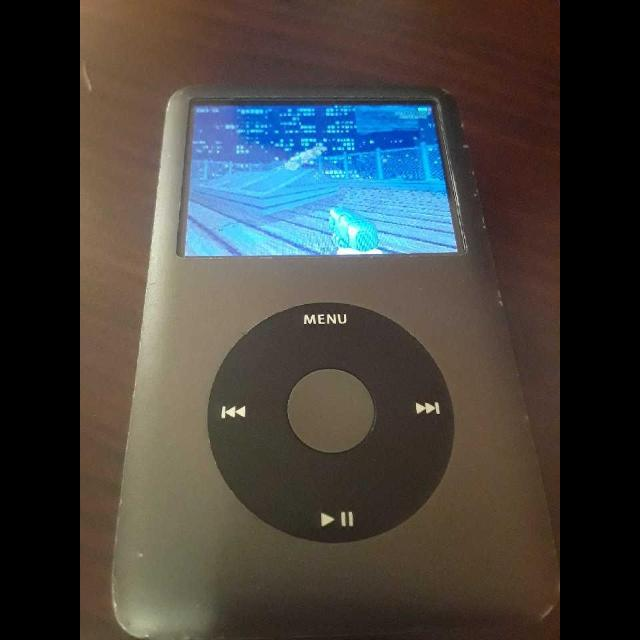Music-Player: (105, 80, 560, 640)
